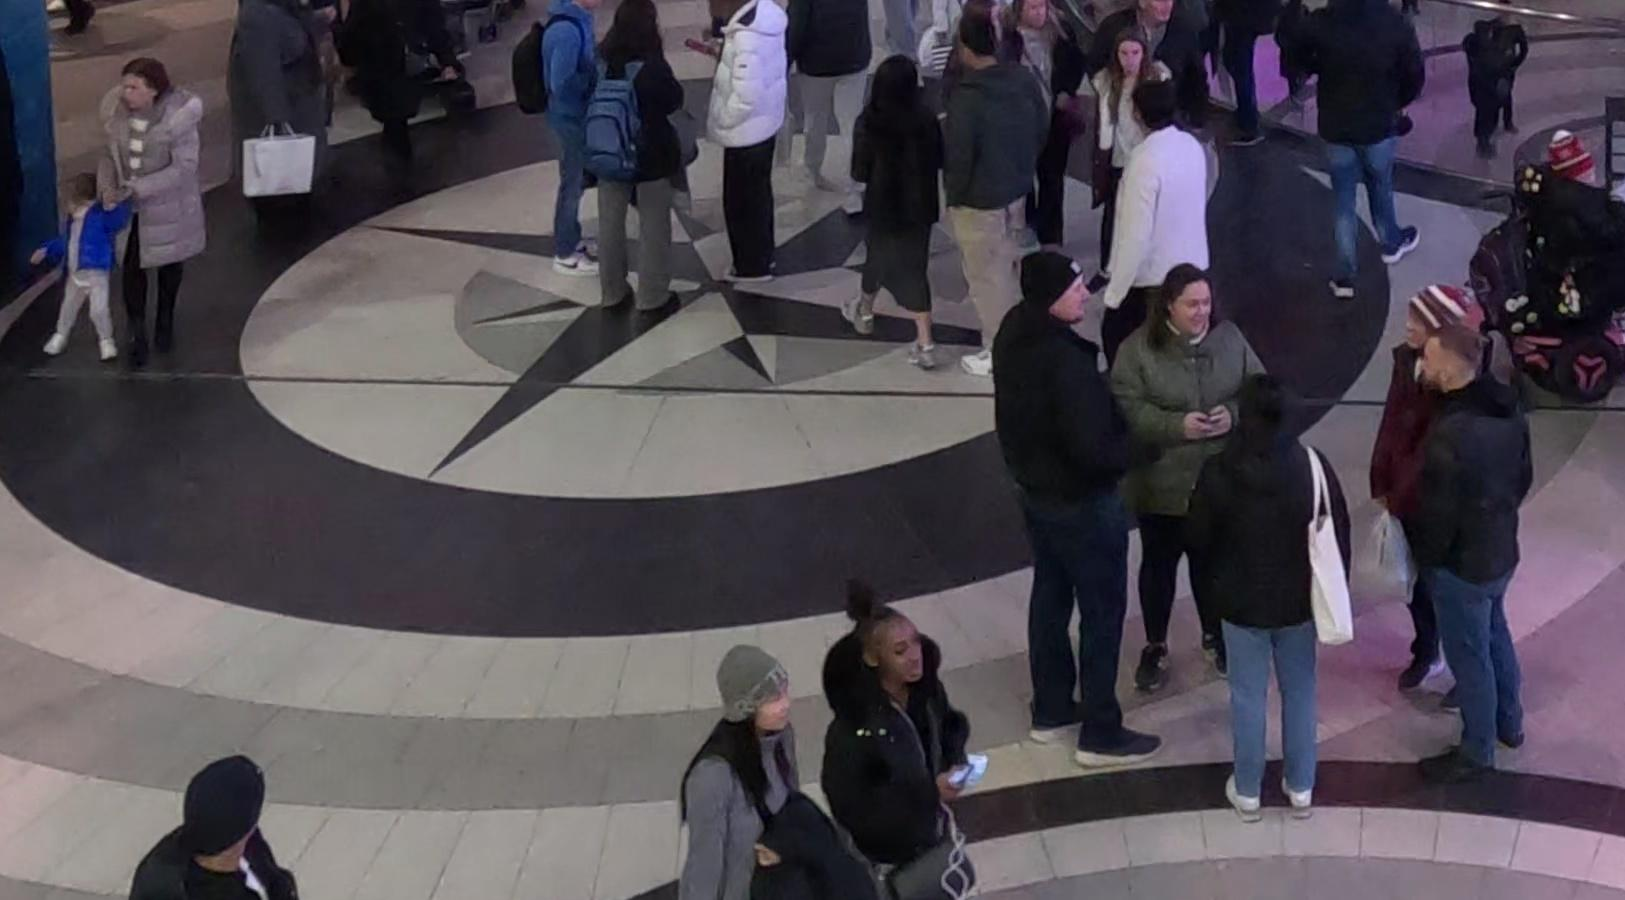person: (985, 247, 1174, 778), (1171, 371, 1338, 813), (1397, 314, 1536, 790), (825, 589, 1001, 900), (671, 637, 840, 899), (99, 750, 350, 900), (850, 49, 961, 375), (695, 6, 794, 308)
